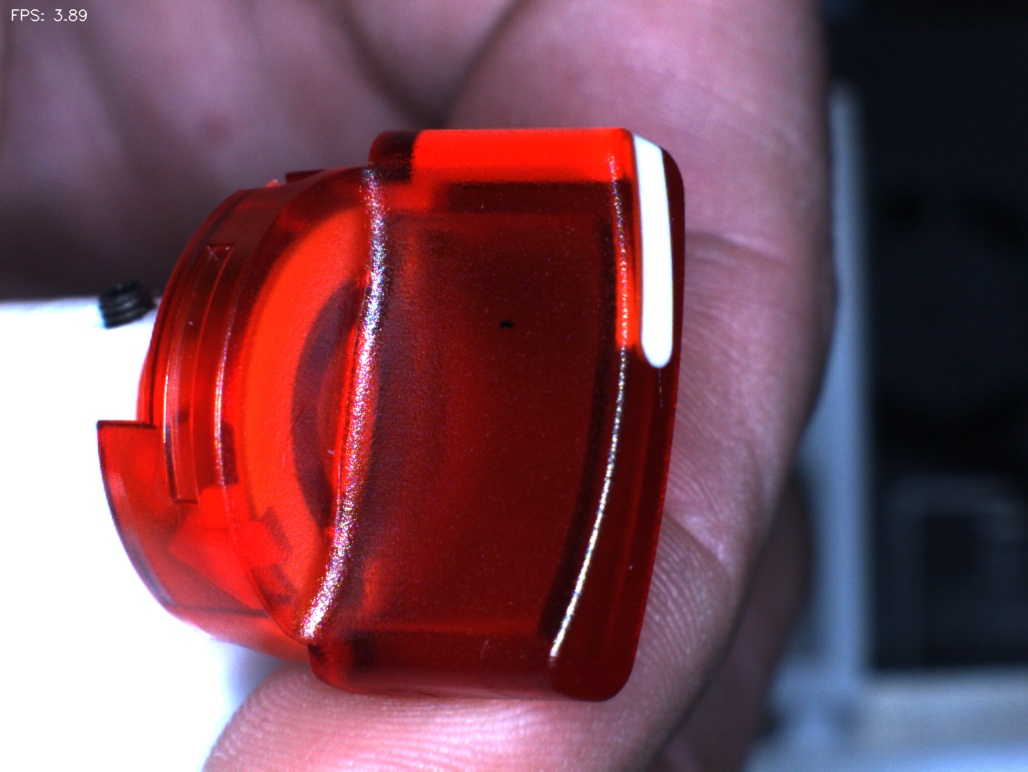PointNoir: (476, 282, 545, 367)
